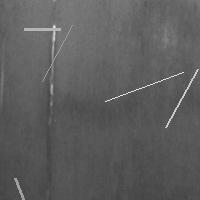scratches: (100, 67, 188, 106), (161, 64, 200, 132), (37, 20, 77, 86), (46, 22, 58, 128), (10, 173, 35, 200), (19, 24, 65, 34)
